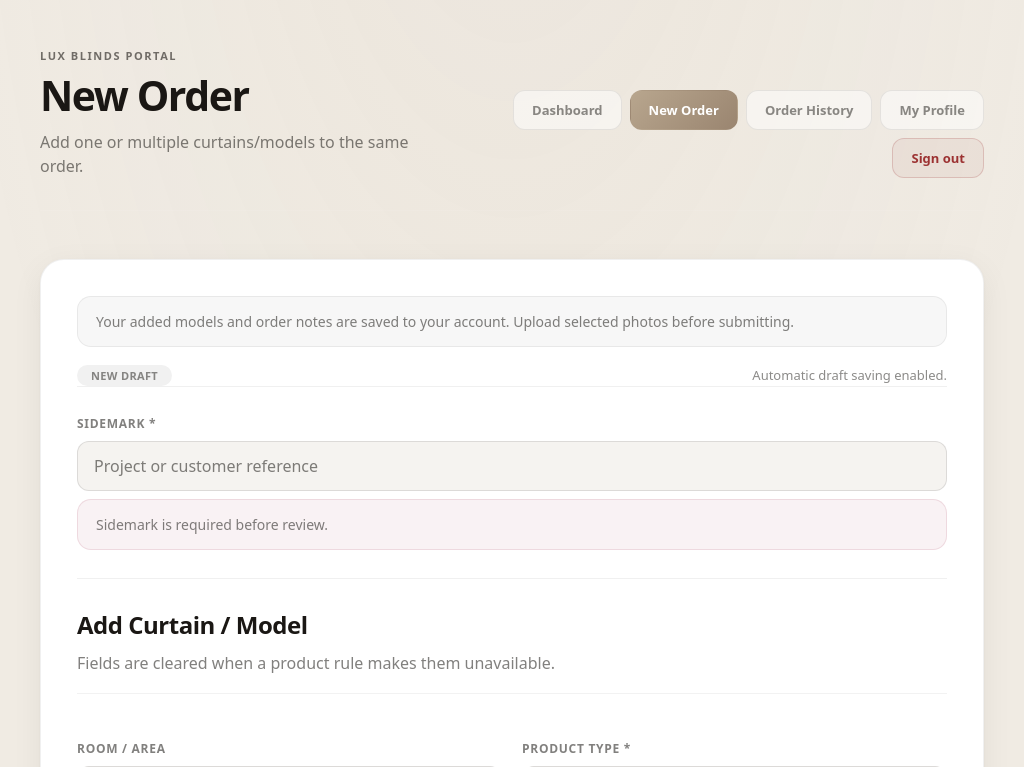
Test: starts blank with no demo reference and saves the server revision
Type "Actual project" into the field labelled "Sidemark *".
click(512, 466); type("Actual project")  # box [77,441,947,491]
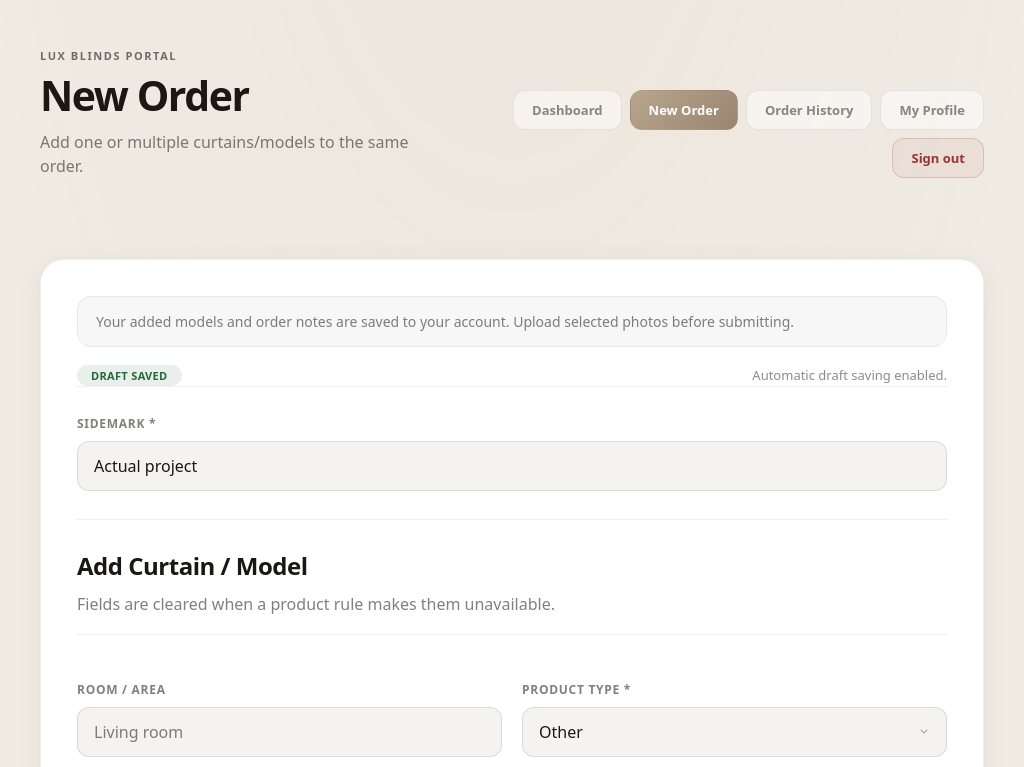
Expected: the text "Draft saved" is shown, [77,365,182,386]
